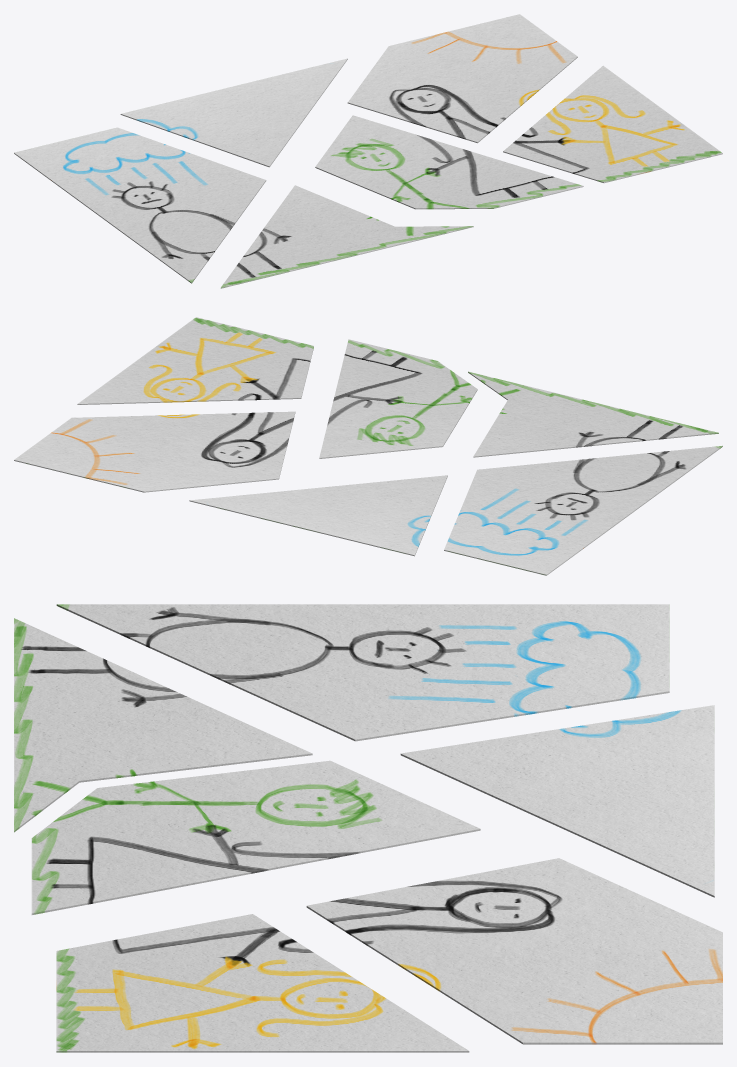
File: KidSadPapers.fbx
3 views of the same model, one above another, from view 1: azimuth 30°, elevation 25°; view 2: azimuth 150°, elevation 25°; view 3: azimuth 270°, elevation 25° (orthographic). The views are drawn at different scales.
Visible parts, largest first — view 1: Paper1, Paper3, Paper5, Paper4, Paper2, Paper6; view 2: Paper1, Paper3, Paper4, Paper5, Paper2, Paper6; view 3: Paper1, Paper3, Paper4, Paper5, Paper2, Paper6.
Boxes of the visible parts, left/top/right/bottom form: Paper1: left=14, top=127, right=266, bottom=283; Paper3: left=347, top=14, right=577, bottom=143; Paper5: left=315, top=115, right=583, bottom=209; Paper4: left=503, top=65, right=722, bottom=183; Paper2: left=120, top=58, right=347, bottom=167; Paper6: left=220, top=185, right=473, bottom=288; Paper1: left=444, top=445, right=722, bottom=575; Paper3: left=14, top=411, right=295, bottom=492; Paper4: left=77, top=317, right=313, bottom=404; Paper5: left=319, top=339, right=477, bottom=458; Paper2: left=189, top=475, right=447, bottom=556; Paper6: left=468, top=371, right=718, bottom=457; Paper1: left=56, top=604, right=669, bottom=741; Paper3: left=306, top=858, right=722, bottom=1044; Paper4: left=56, top=914, right=469, bottom=1052; Paper5: left=31, top=760, right=480, bottom=914; Paper2: left=400, top=705, right=714, bottom=897; Paper6: left=14, top=618, right=312, bottom=832.
Size of the model in its own units: 1380 by 23.03 by 926.
Materials: 1 (1 with a texture image).
